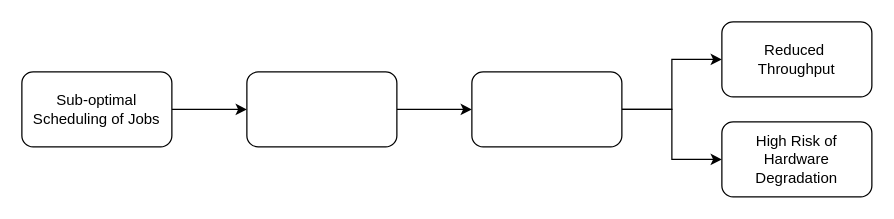
Image size: 894x219. Some labels were removed from this diagram. Each missing label, with the centre of its shape:
High GPU Temeratures: (321,109)
Processor Throttling: (546,109)
